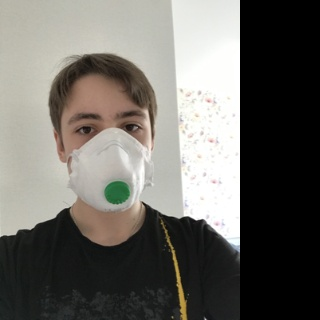with_mask: (62, 88, 153, 212)
